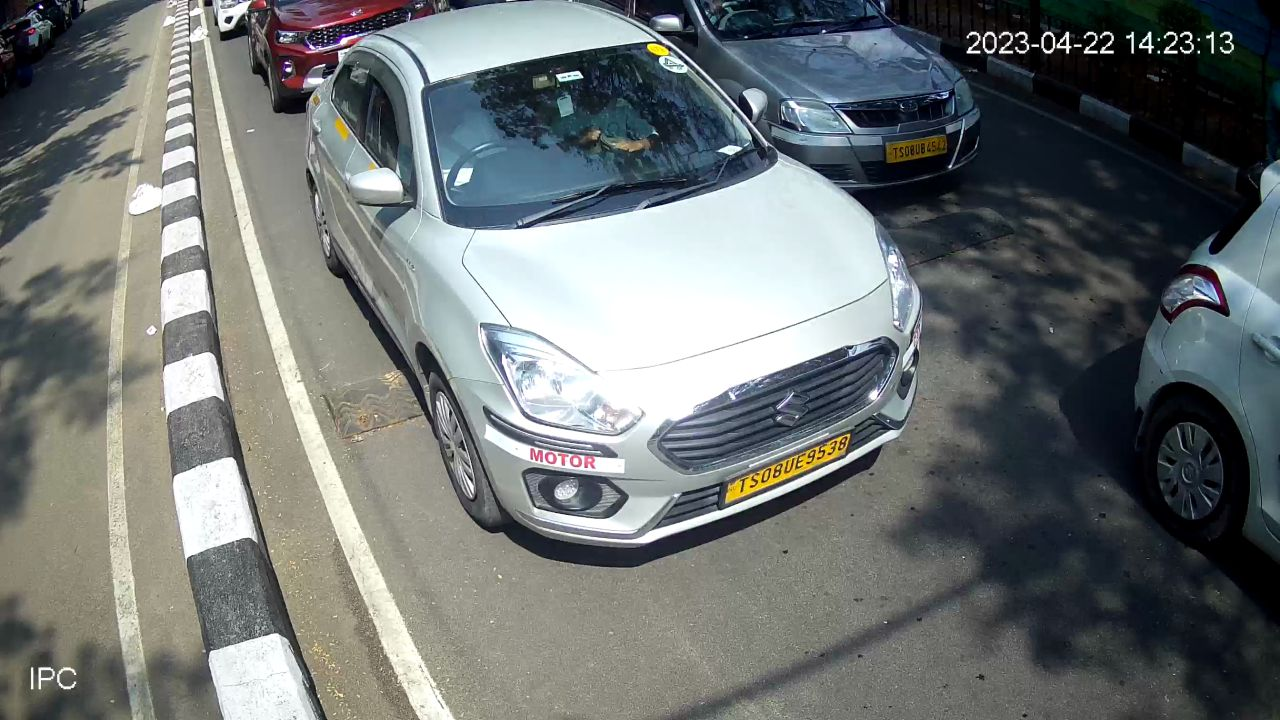license_plate: (713, 424, 862, 513), (879, 128, 951, 166)
